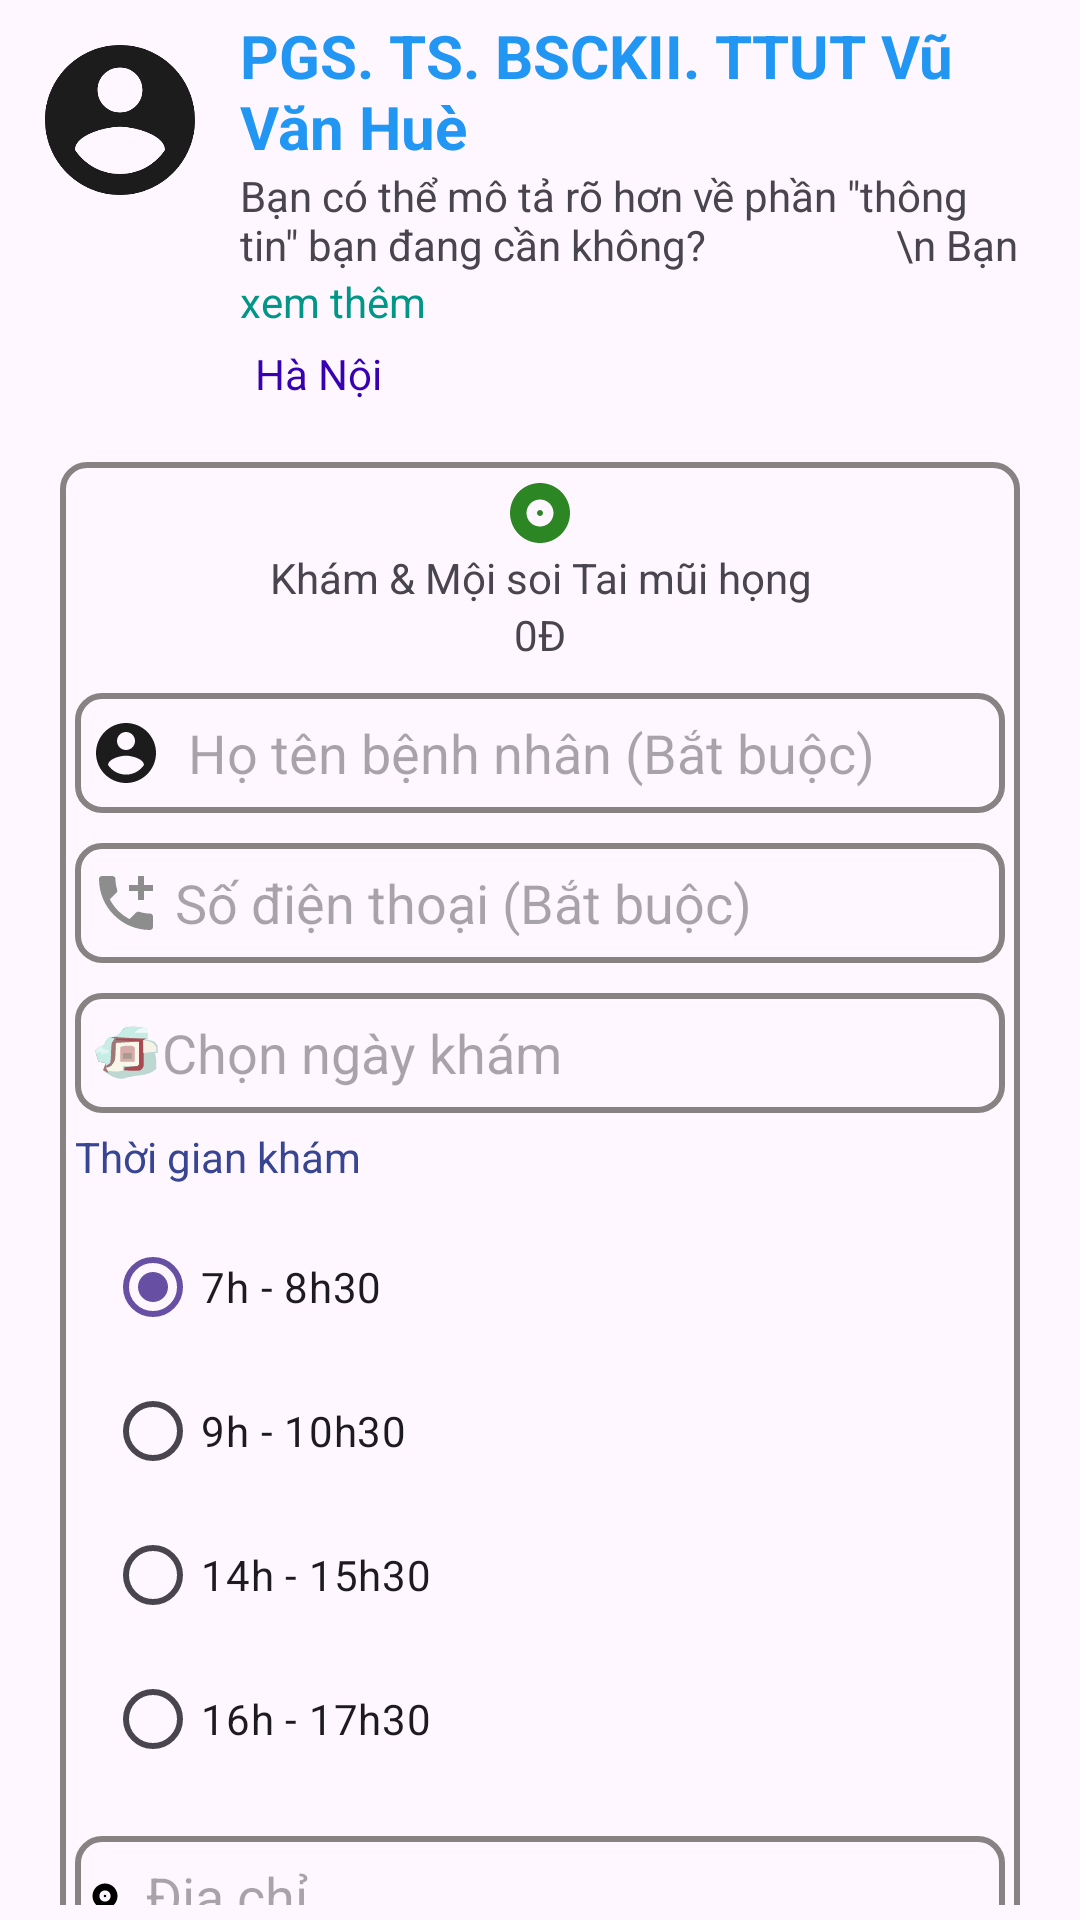

Icons on this 1080 × 1920 Android screen, each with its box as [left=x1, top=y1, right=x2, bottom=y2]:
account circle: [left=45, top=45, right=195, bottom=195]
dotcomxanh: [left=510, top=483, right=570, bottom=543]
